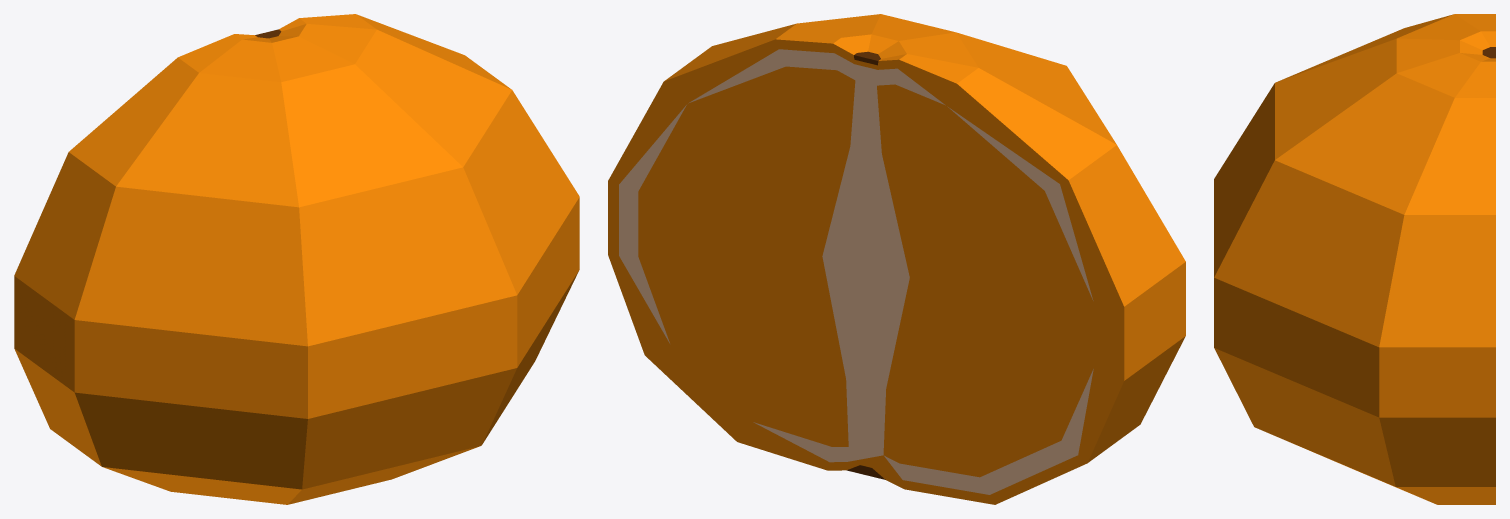
File: clementine02.obj
3 views of the same model, side by side, from view 1: azimuth 30°, elevation 25°; view 2: azimuth 150°, elevation 25°; view 3: azimuth 270°, elevation 25° (orthographic). The views are drawn at different scales.
Visible parts, largest first — view 1: Cylinder; view 2: Cylinder; view 3: Cylinder.
Part boxes in pixels (x1,y1,x2,y2): Cylinder: (14, 14, 579, 504); Cylinder: (608, 14, 1185, 504); Cylinder: (1214, 14, 1495, 504).
Size of the model in its own units: 0.0574 by 0.0455 by 0.0287.
1 material, 1 textured.
